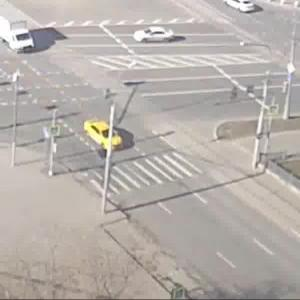car: (1, 1, 37, 55), (80, 118, 129, 152), (131, 24, 179, 44), (222, 1, 259, 17)
